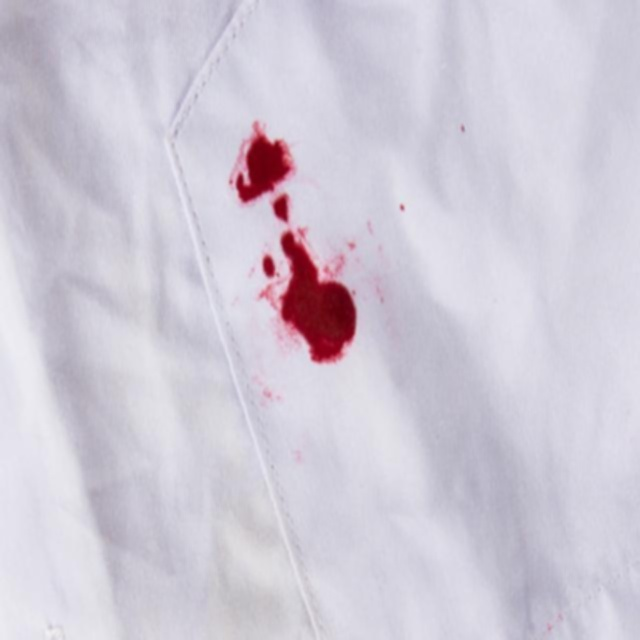blood: (253, 229, 359, 369), (233, 123, 295, 221)
